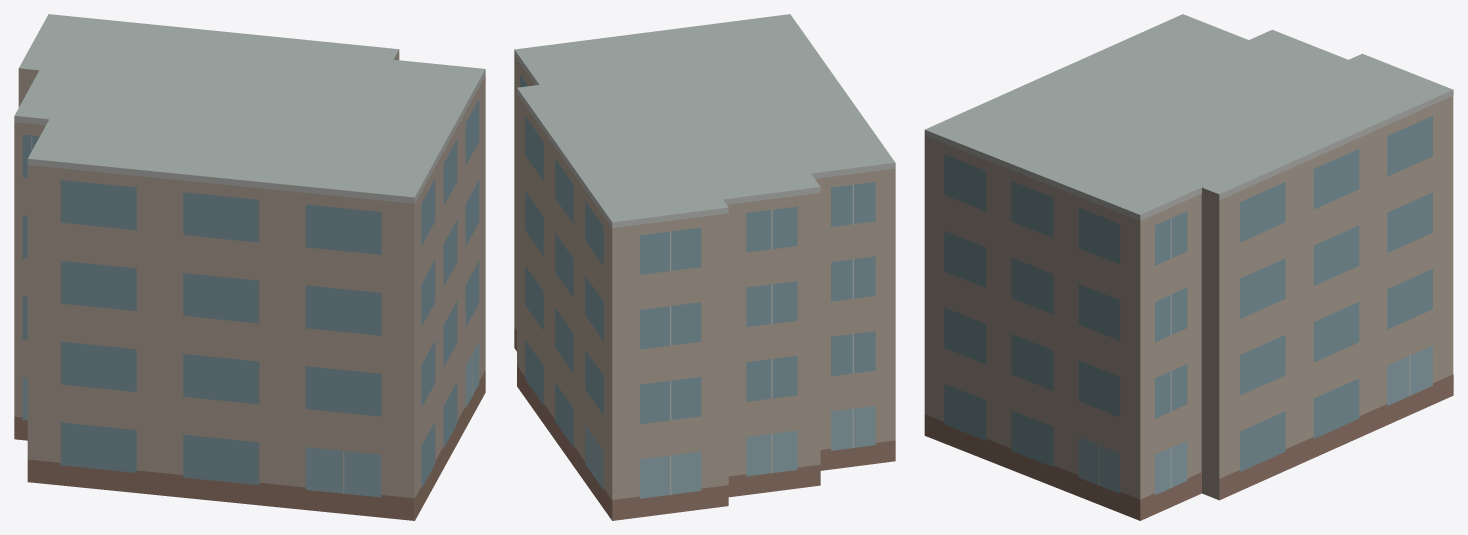
The model's file is survey-upis-32663673.glb.
3 views of the same model, side by side, from view 1: azimuth 30°, elevation 25°; view 2: azimuth 150°, elevation 25°; view 3: azimuth 270°, elevation 25° (orthographic). The views are drawn at different scales.
Visible parts, largest first — view 1: survey-upis-32663673.tmp; view 2: survey-upis-32663673.tmp; view 3: survey-upis-32663673.tmp.
Boxes of the visible parts, x1,y1,x2,y2 form: survey-upis-32663673.tmp: (14, 14, 485, 520); survey-upis-32663673.tmp: (514, 14, 895, 520); survey-upis-32663673.tmp: (924, 14, 1453, 520).
Size of the model in its own units: 17.48 by 12.4 by 19.43.
